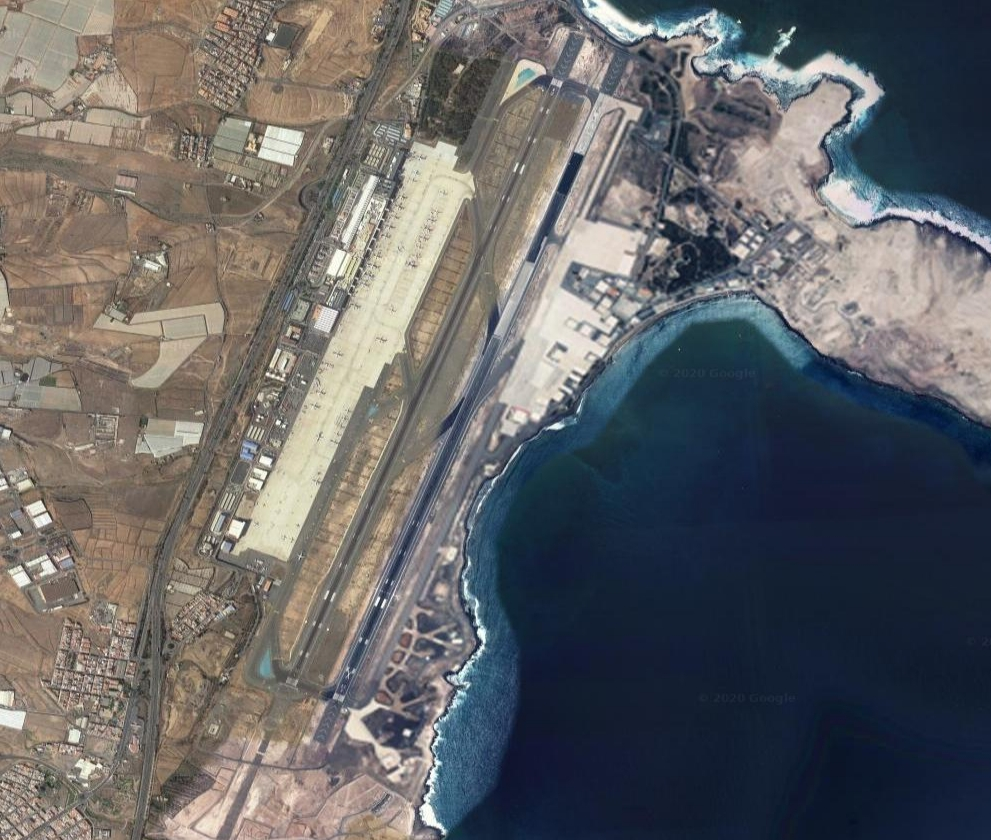airport: (230, 28, 631, 747)
motorway: (185, 398, 240, 493), (221, 305, 276, 400), (143, 490, 189, 596), (129, 717, 168, 840), (141, 594, 180, 717), (264, 218, 313, 307), (299, 134, 348, 223), (342, 44, 391, 133), (379, 1, 417, 44)
